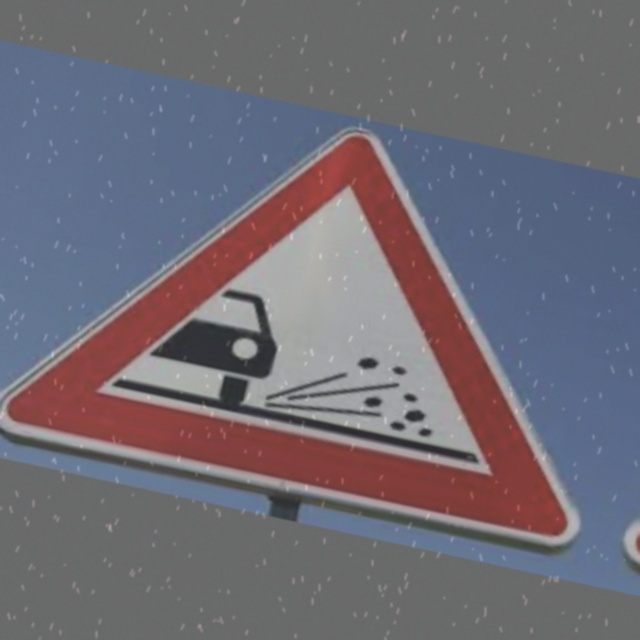Loose_Gravel: (38, 98, 615, 546)
